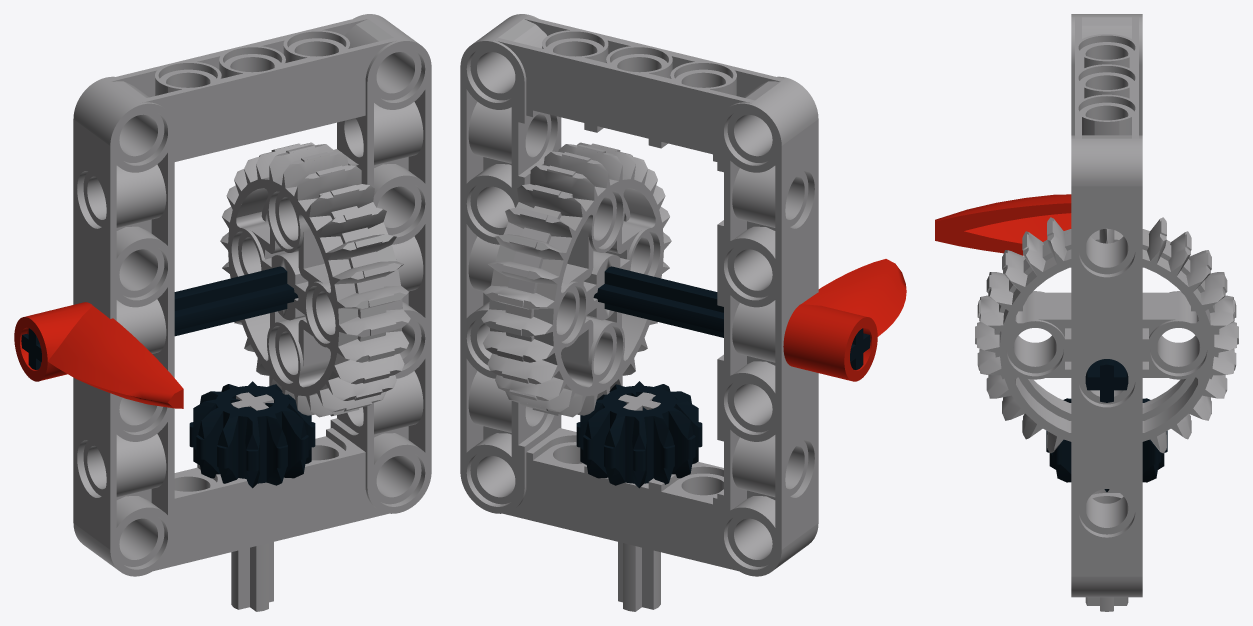
The model's file is 90_degree_5.glb.
3 views of the same model, side by side, from view 1: azimuth 30°, elevation 25°; view 2: azimuth 150°, elevation 25°; view 3: azimuth 270°, elevation 25° (orthographic). The views are drawn at different scales.
Parts seen in each view (by area): view 1: 64179.dat, 41669.dat, 32270.dat; view 2: 64179.dat, 41669.dat, 32270.dat; view 3: 64179.dat, 41669.dat, 32270.dat.
Boxes of the visible parts, x1,y1,x2,y2 form: 64179.dat: (73,14,431,576); 41669.dat: (14,142,410,417); 32270.dat: (189,381,315,611); 64179.dat: (460,14,818,576); 41669.dat: (481,142,906,417); 32270.dat: (576,381,702,611); 64179.dat: (1071,14,1142,597); 41669.dat: (935,194,1238,453); 32270.dat: (1046,398,1167,611).
Size of the model in its own units: 1.2 by 1.61 by 0.8453.
